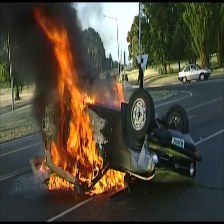fire_h: (33, 9, 107, 186), (86, 169, 126, 195), (48, 173, 75, 190), (111, 81, 124, 109)
fire_l: (39, 158, 50, 172)
